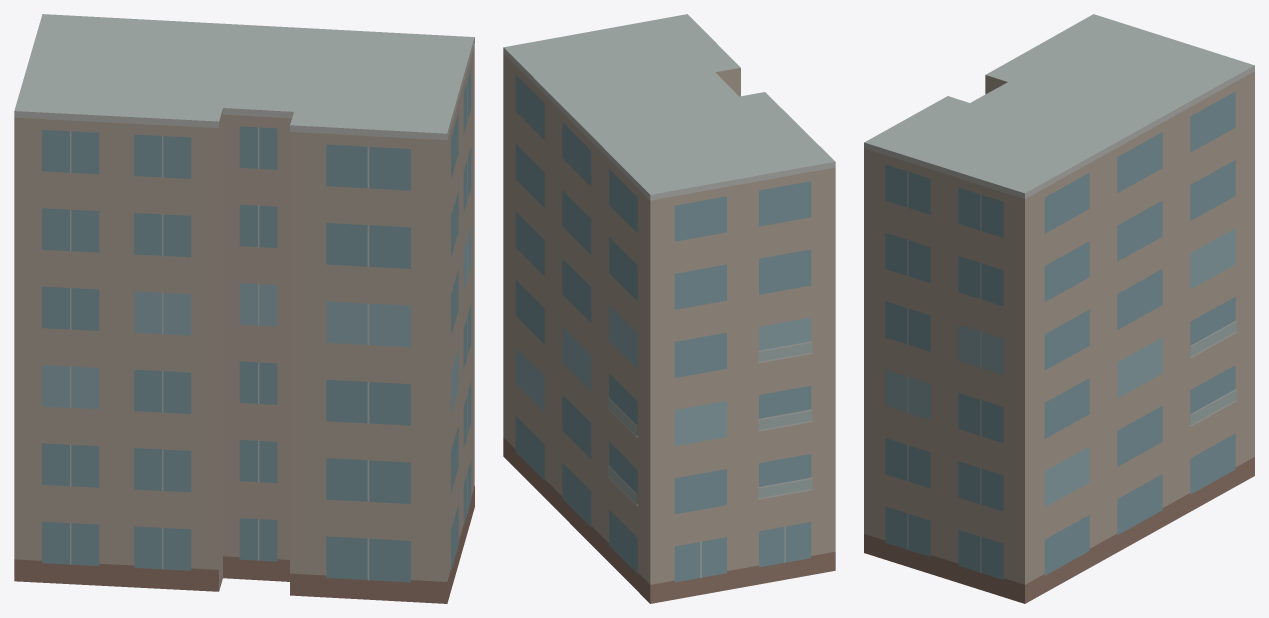
Rendered from survey-upis-32630896.glb.
3 renders of one model, left to right at view 1: azimuth 30°, elevation 25°; view 2: azimuth 150°, elevation 25°; view 3: azimuth 270°, elevation 25°, orthographic. The views are drawn at different scales.
Visible parts, largest first — view 1: survey-upis-32630896.tmp; view 2: survey-upis-32630896.tmp; view 3: survey-upis-32630896.tmp.
Boxes of the visible parts, x1,y1,x2,y2 form: survey-upis-32630896.tmp: (14, 14, 474, 603); survey-upis-32630896.tmp: (503, 14, 835, 603); survey-upis-32630896.tmp: (864, 14, 1254, 603).
Size of the model in its own units: 16.32 by 17.4 by 15.02.
